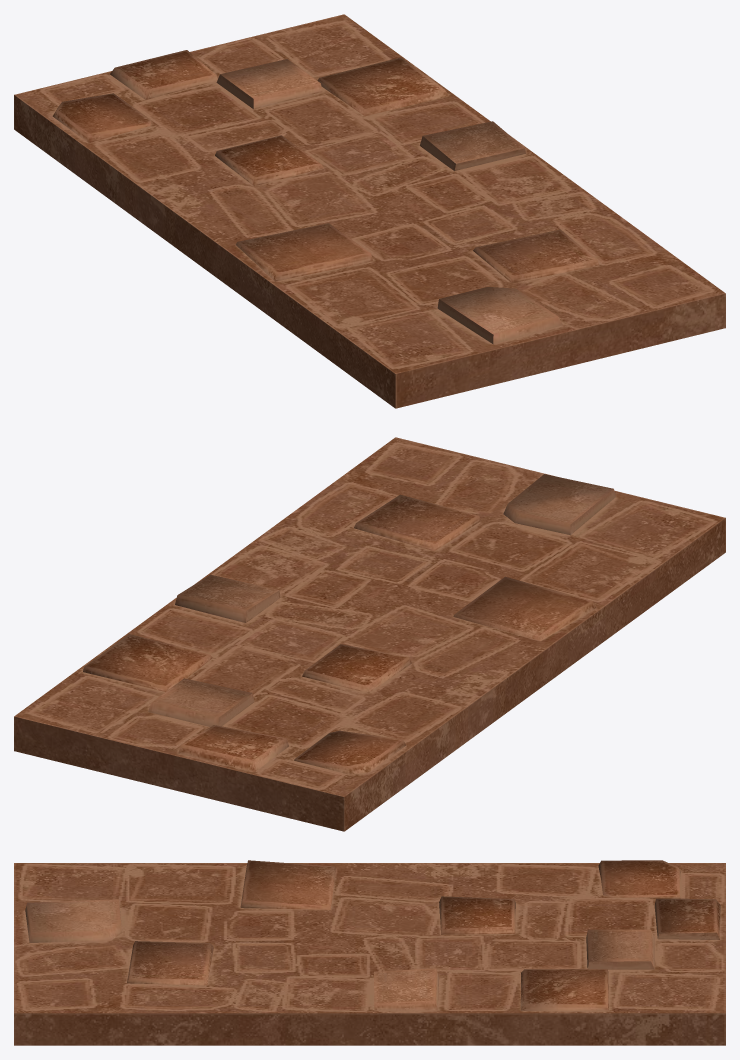
Rendered from floor_400_200_02.glb.
3 renders of one model, top to bottom at view 1: azimuth 30°, elevation 25°; view 2: azimuth 150°, elevation 25°; view 3: azimuth 270°, elevation 25°, orthographic. The views are drawn at different scales.
Visible parts, largest first — view 1: floor_400_200_02; view 2: floor_400_200_02; view 3: floor_400_200_02.
Boxes of the visible parts, x1=… form: floor_400_200_02: x1=14, y1=14, x2=725, y2=408; floor_400_200_02: x1=14, y1=437, x2=725, y2=831; floor_400_200_02: x1=14, y1=860, x2=725, y2=1045.
Bounding box in the file's own units: 2 × 0.2623 × 4.
1 material, 1 textured.
